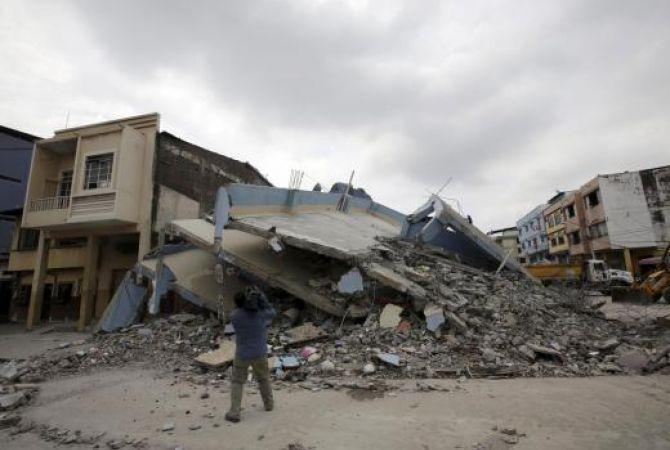affected: (10, 100, 278, 316)
destroyed: (106, 123, 608, 366)
